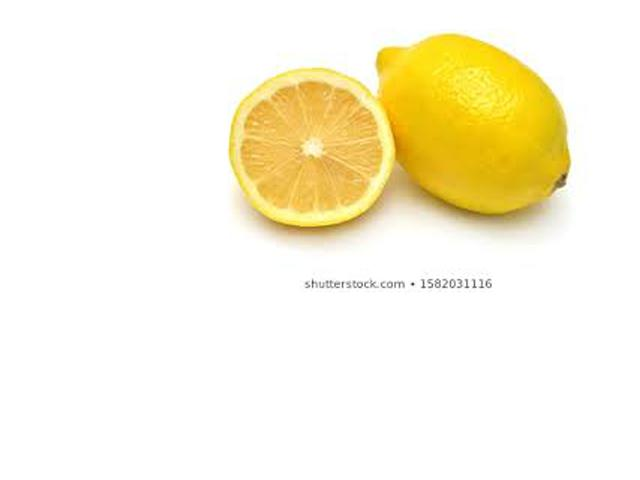lemon: (372, 32, 585, 219)
